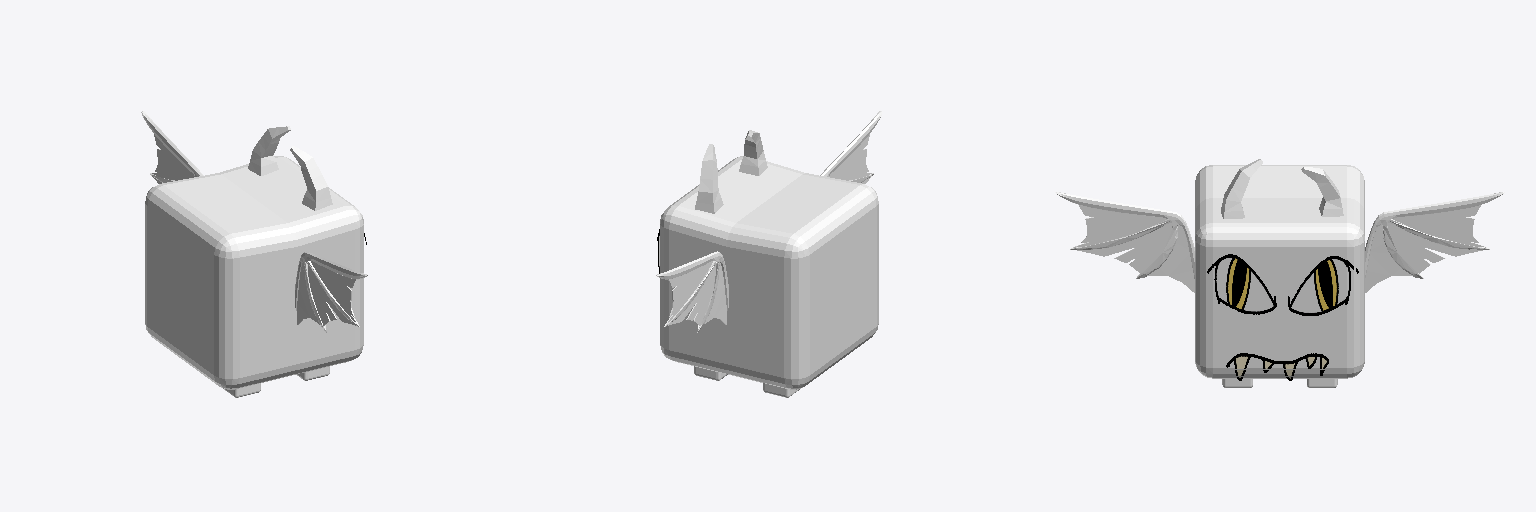
3 views of the same model, side by side, from view 1: azimuth 30°, elevation 25°; view 2: azimuth 150°, elevation 25°; view 3: azimuth 270°, elevation 25° (orthographic).
Visible parts, largest first — view 1: Body1, Horn2, Wingpart8, Horn1, Wingpart5, Wingpart1, Wingpart6, Wingpart4, Wingpart7, Legs1; view 2: Body1, Wingpart4, Horn1, Wingpart1, Horn2, Wingpart5, Wingpart2, Wingpart8, Wingpart3, Legs1; view 3: Body1, Body2, Wingpart8, Wingpart4, Wingpart5, Wingpart1, Wingpart2, Wingpart6, Wingpart3, Wingpart7, Horn2, Horn1 (+1 smaller).
Boxes of the visible parts, <box> form: Body1: <box>145,156,363,389</box>; Horn2: <box>290,146,332,210</box>; Wingpart8: <box>295,251,367,332</box>; Horn1: <box>248,126,290,175</box>; Wingpart5: <box>311,261,357,323</box>; Wingpart1: <box>152,134,194,180</box>; Wingpart6: <box>308,266,355,325</box>; Wingpart4: <box>141,111,203,182</box>; Wingpart7: <box>297,262,319,324</box>; Legs1: <box>223,366,329,397</box>; Body1: <box>660,156,878,389</box>; Wingpart4: <box>656,251,728,332</box>; Horn1: <box>695,144,723,213</box>; Wingpart1: <box>666,261,712,323</box>; Horn2: <box>739,130,767,175</box>; Wingpart5: <box>829,134,871,180</box>; Wingpart2: <box>668,266,715,325</box>; Wingpart8: <box>820,111,882,182</box>; Wingpart3: <box>705,263,726,324</box>; Legs1: <box>694,366,800,397</box>; Body1: <box>1195,165,1364,378</box>; Body2: <box>1207,254,1358,380</box>; Wingpart8: <box>1055,192,1194,278</box>; Wingpart4: <box>1365,192,1504,278</box>; Wingpart5: <box>1073,205,1166,247</box>; Wingpart1: <box>1393,205,1486,247</box>; Wingpart2: <box>1387,222,1482,273</box>; Wingpart6: <box>1077,222,1172,273</box>; Wingpart3: <box>1365,224,1412,292</box>; Wingpart7: <box>1147,224,1194,292</box>; Horn2: <box>1221,159,1262,218</box>; Horn1: <box>1301,167,1343,216</box>.
Size of the model in its own units: 1.07 by 1.5 by 2.78.
Materials: 8 (1 with a texture image).